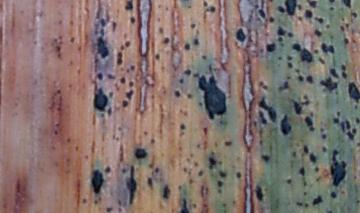tarspot: (198, 75, 226, 119), (331, 149, 346, 185), (258, 98, 277, 121), (127, 166, 138, 205), (93, 88, 108, 111), (91, 168, 104, 194), (97, 37, 109, 58), (348, 82, 360, 103), (320, 78, 338, 92), (280, 114, 292, 135), (321, 42, 335, 55), (301, 48, 313, 63), (285, 1, 297, 16), (236, 27, 246, 42), (135, 148, 147, 160), (254, 184, 263, 200), (329, 67, 339, 79), (258, 111, 268, 123), (181, 198, 189, 213), (293, 102, 302, 115), (277, 82, 289, 91), (163, 185, 170, 200), (312, 195, 322, 205), (291, 43, 302, 52), (117, 51, 123, 66), (266, 43, 276, 52), (309, 152, 317, 163), (276, 27, 285, 36), (258, 9, 266, 19), (305, 9, 313, 19), (342, 1, 352, 9), (305, 116, 313, 126), (125, 1, 133, 10), (277, 5, 285, 14), (261, 154, 270, 162), (340, 121, 346, 133), (308, 1, 318, 8), (306, 75, 313, 85), (347, 130, 354, 140), (106, 73, 117, 79), (345, 119, 351, 130), (163, 36, 171, 44), (208, 157, 216, 165), (314, 29, 322, 37), (216, 180, 224, 188), (97, 72, 104, 81), (183, 69, 192, 76), (193, 38, 200, 47), (218, 171, 227, 178), (203, 125, 209, 135), (303, 144, 309, 154), (299, 166, 305, 176), (100, 18, 107, 26), (126, 91, 133, 99), (121, 99, 128, 107), (104, 165, 111, 173), (184, 42, 190, 51), (112, 22, 117, 32), (202, 1, 209, 8), (317, 17, 324, 24), (128, 80, 134, 88), (189, 23, 197, 29), (201, 53, 207, 61), (351, 126, 357, 134), (197, 169, 203, 177), (286, 177, 292, 185), (330, 191, 336, 199), (295, 201, 303, 207), (258, 139, 264, 147), (340, 23, 345, 32), (223, 141, 232, 146), (175, 90, 181, 97), (180, 124, 187, 130), (297, 15, 303, 22), (351, 11, 357, 18), (344, 38, 350, 45), (319, 57, 325, 64), (298, 75, 304, 82), (295, 67, 301, 74), (236, 171, 242, 178), (332, 118, 339, 124), (302, 190, 308, 197), (189, 177, 195, 184), (53, 129, 59, 136), (70, 36, 76, 43), (292, 151, 298, 158), (315, 176, 322, 182), (176, 183, 182, 190), (339, 189, 346, 195), (155, 53, 160, 61), (148, 177, 152, 187), (56, 45, 61, 53), (210, 6, 216, 12), (269, 17, 275, 23), (287, 31, 293, 37), (287, 62, 293, 68), (309, 126, 315, 132), (314, 166, 320, 172), (120, 45, 126, 51), (121, 77, 126, 84), (159, 27, 164, 34), (297, 3, 302, 10), (150, 138, 155, 145), (259, 80, 264, 87), (341, 64, 346, 71), (355, 118, 360, 125), (322, 145, 327, 152), (193, 202, 198, 209), (82, 197, 87, 204), (101, 28, 105, 36), (192, 73, 200, 77), (130, 17, 135, 23), (125, 41, 130, 47), (130, 65, 135, 71), (179, 78, 184, 84), (187, 93, 192, 99), (329, 6, 335, 11), (345, 22, 350, 28), (314, 48, 319, 54), (342, 72, 347, 78), (303, 94, 308, 100), (155, 167, 160, 173), (303, 181, 308, 187), (194, 162, 199, 168), (208, 164, 214, 169), (122, 167, 127, 173), (119, 207, 124, 213), (198, 101, 203, 107), (222, 202, 227, 208), (353, 175, 358, 181), (143, 130, 148, 136), (302, 101, 309, 105), (106, 207, 113, 211), (118, 199, 122, 206), (278, 37, 283, 42), (287, 55, 292, 60), (277, 55, 282, 60), (263, 85, 268, 90), (218, 189, 223, 194), (183, 167, 188, 172), (352, 39, 357, 44), (341, 16, 345, 22), (322, 133, 326, 139), (337, 111, 341, 117), (305, 202, 309, 208), (94, 199, 98, 205), (326, 24, 330, 29), (354, 104, 358, 109), (287, 76, 291, 80), (356, 199, 360, 203), (327, 210, 332, 213), (357, 142, 360, 147), (329, 1, 335, 3)
